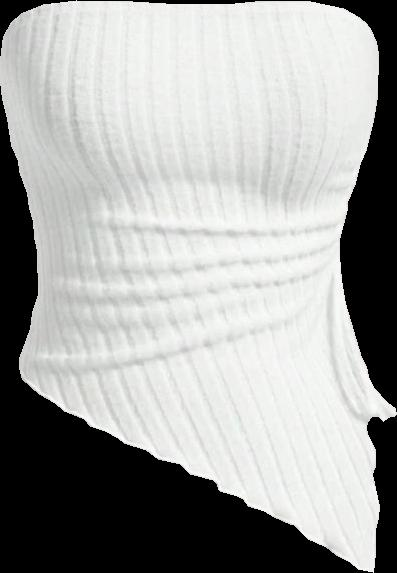Bodice: (0, 2, 396, 571)
Neckline: (0, 0, 371, 43)
Waistline: (17, 368, 396, 572)
